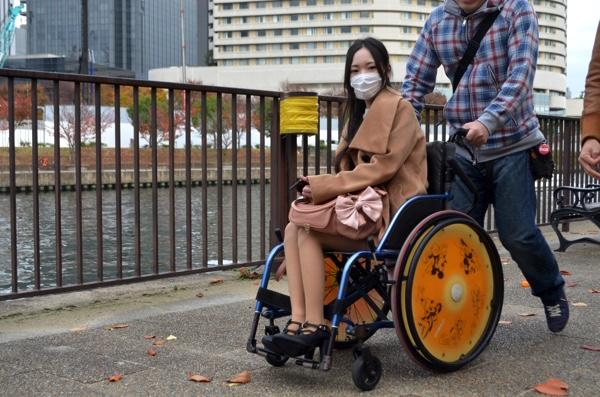push_wheelchair: (388, 0, 570, 332)
wheelchair: (246, 37, 504, 392)
